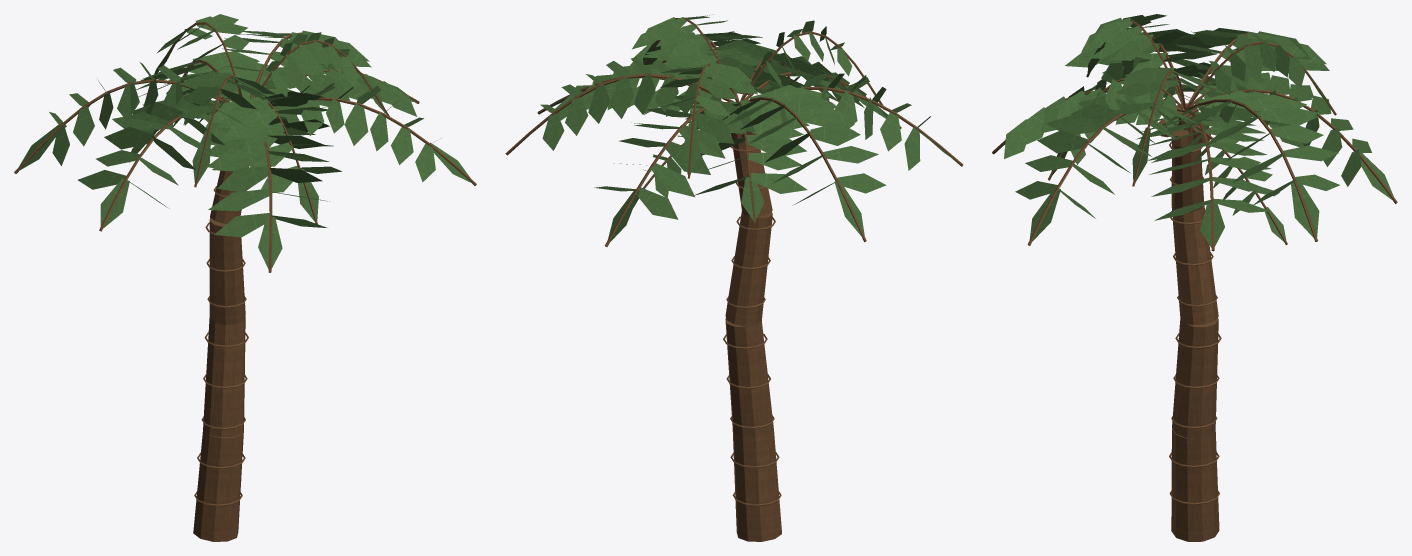
Rendered from en-007_palm_tree_variant_set__broken.obj.
3 views of the same model, side by side, from view 1: azimuth 30°, elevation 25°; view 2: azimuth 150°, elevation 25°; view 3: azimuth 270°, elevation 25° (orthographic). The views are drawn at different scales.
Visible parts, largest first — view 1: en-007_palm_tree_variant_set__broken; view 2: en-007_palm_tree_variant_set__broken; view 3: en-007_palm_tree_variant_set__broken.
Boxes of the visible parts, <box> form: en-007_palm_tree_variant_set__broken: <box>14,14,476,541</box>; en-007_palm_tree_variant_set__broken: <box>505,14,963,541</box>; en-007_palm_tree_variant_set__broken: <box>992,14,1397,541</box>.
Size of the model in its own units: 2.69 by 3.35 by 2.45.
2 materials, 2 textured.
